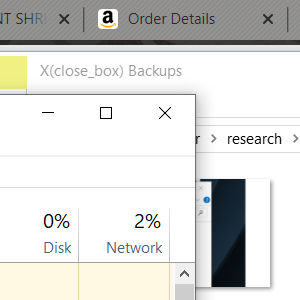close: (149, 97, 182, 128), (51, 7, 77, 30), (256, 7, 280, 30)
